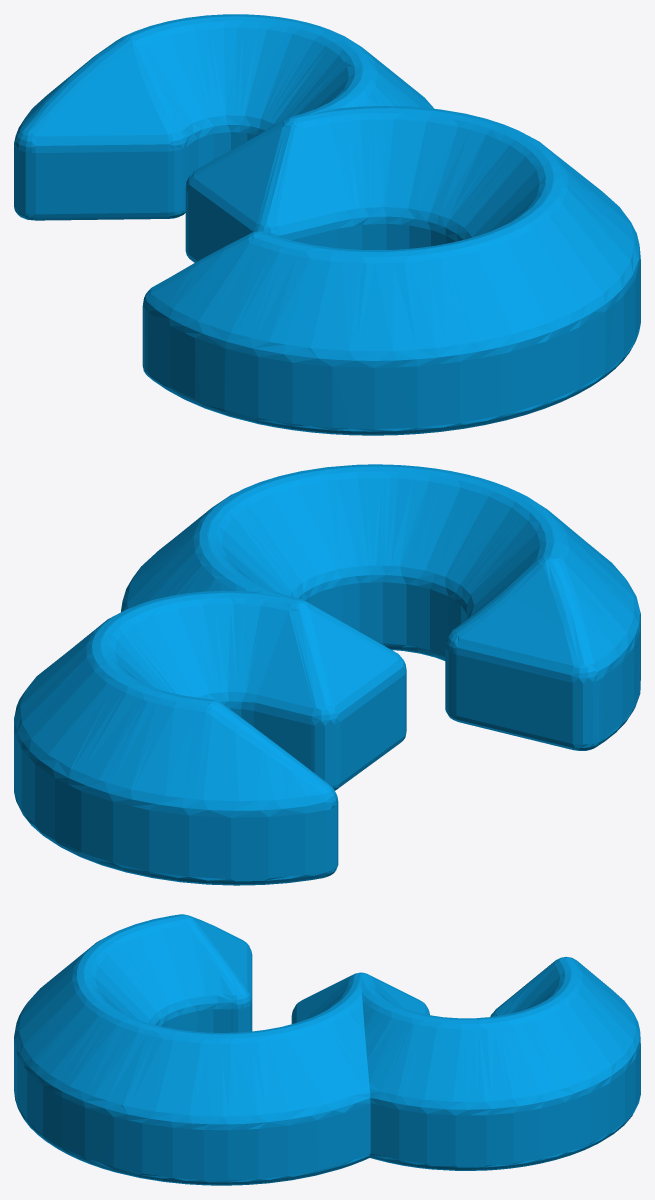
The picture shows the model from 3 angles, top to bottom: view 1: azimuth 30°, elevation 25°; view 2: azimuth 150°, elevation 25°; view 3: azimuth 270°, elevation 25°; orthographic projection. The views are drawn at different scales.
Size of the model in its own units: 0.0168 by 0.00532 by 0.0245.
